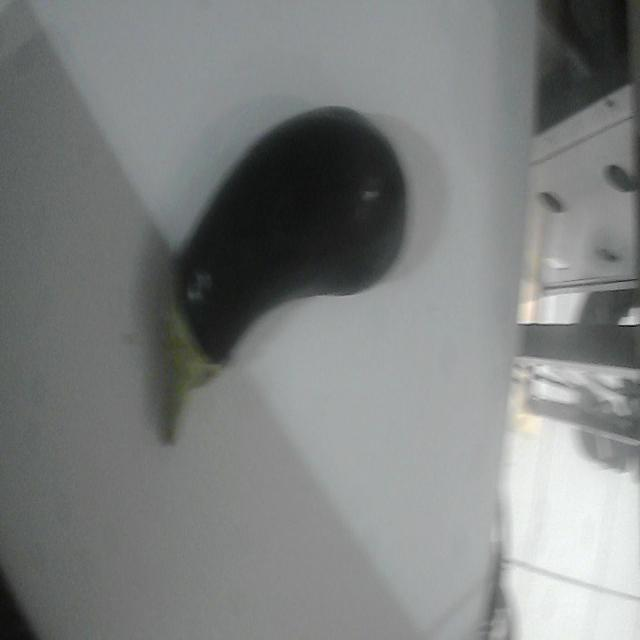Eggplant: (164, 108, 406, 440)
